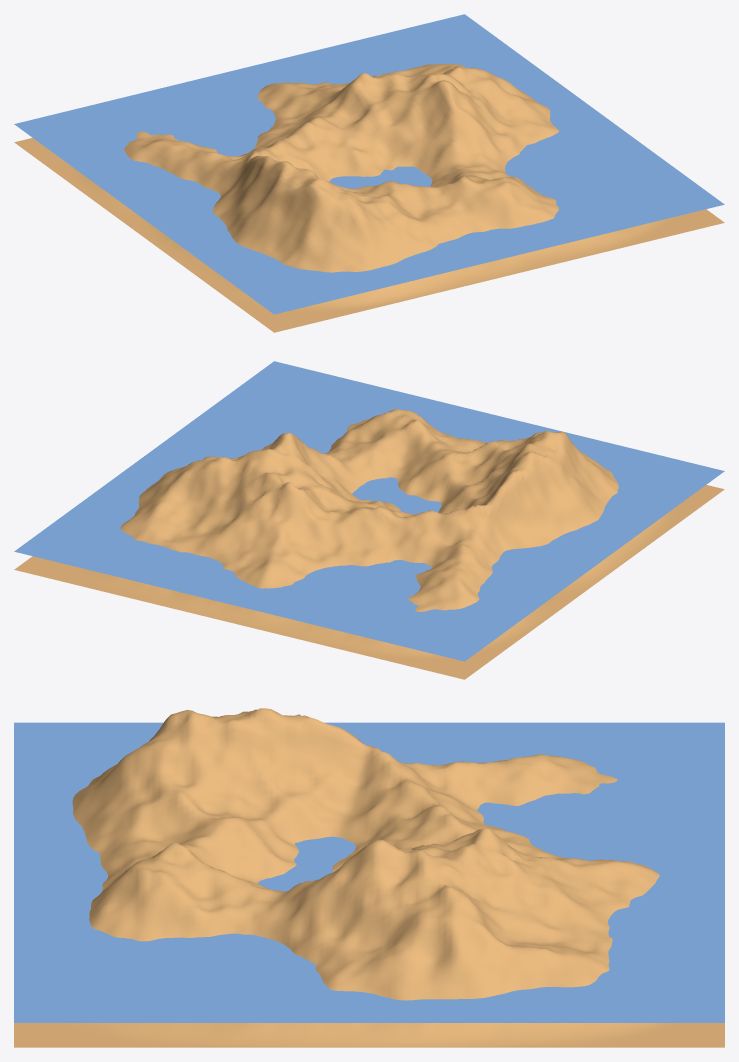
Rendered from island.fbx.
3 renders of one model, top to bottom at view 1: azimuth 30°, elevation 25°; view 2: azimuth 150°, elevation 25°; view 3: azimuth 270°, elevation 25°, orthographic. The views are drawn at different scales.
Parts seen in each view (by area): view 1: Sand, Water; view 2: Sand, Water; view 3: Sand, Water.
Boxes of the visible parts, left/top/right/bottom form: Sand: left=14, top=64, right=724, bottom=332; Water: left=14, top=14, right=724, bottom=314; Sand: left=14, top=409, right=724, bottom=679; Water: left=14, top=361, right=724, bottom=661; Sand: left=14, top=708, right=724, bottom=1047; Water: left=14, top=722, right=724, bottom=1022.
Bounding box in the file's own units: 200 × 35.82 × 200.
